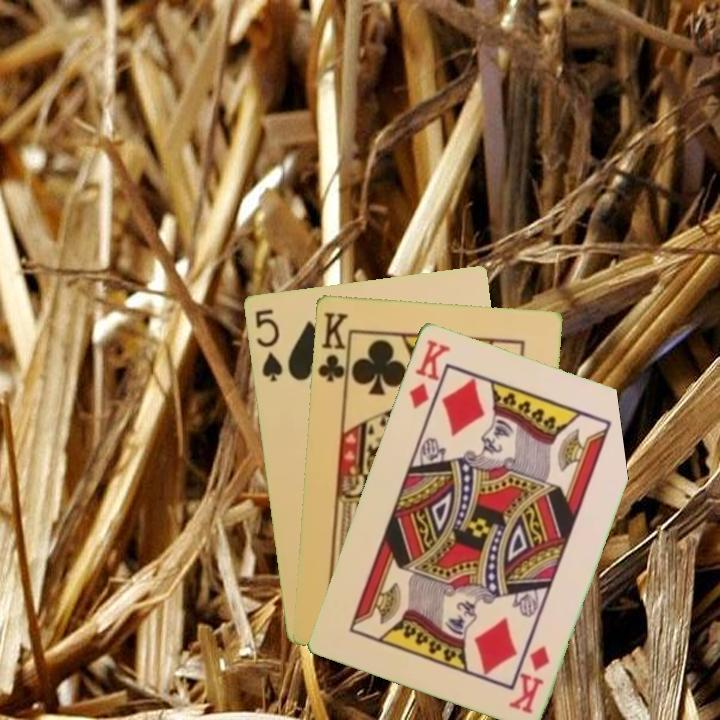5s: (251, 304, 285, 384)
Kc: (314, 308, 352, 390)
Kd: (405, 335, 453, 411), (507, 641, 553, 716)
